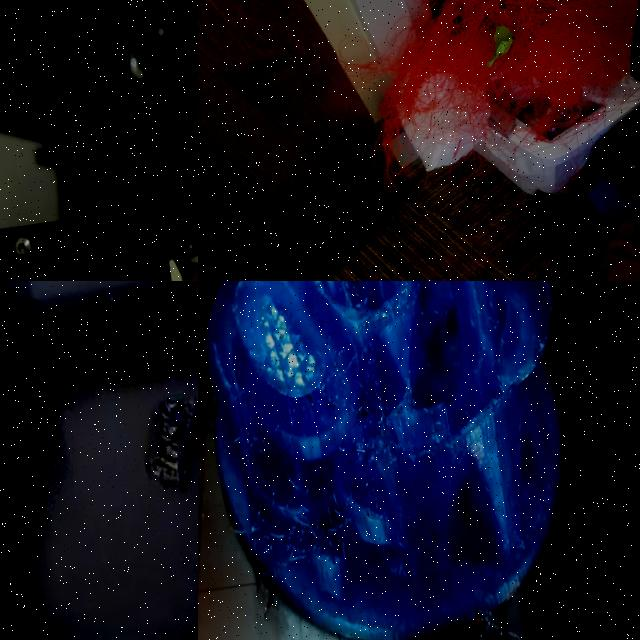spaghetti: (201, 281, 491, 634), (321, 0, 640, 224), (459, 590, 538, 640)
